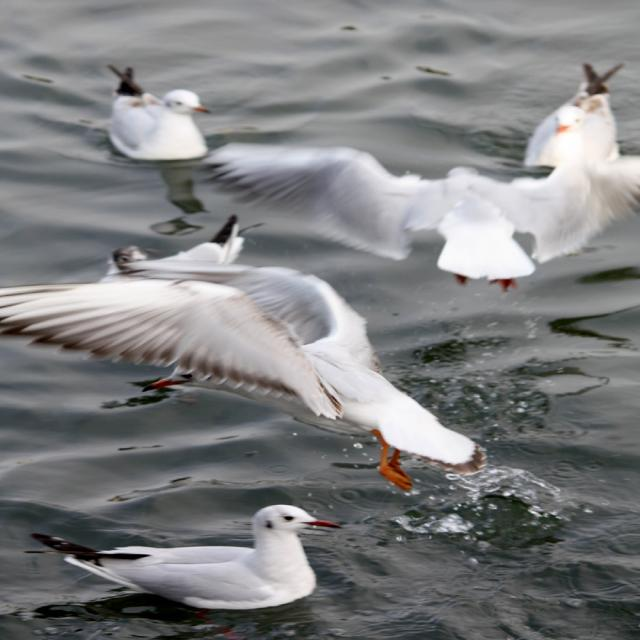bird: (160, 148, 640, 284), (18, 503, 344, 609), (101, 66, 211, 164)
